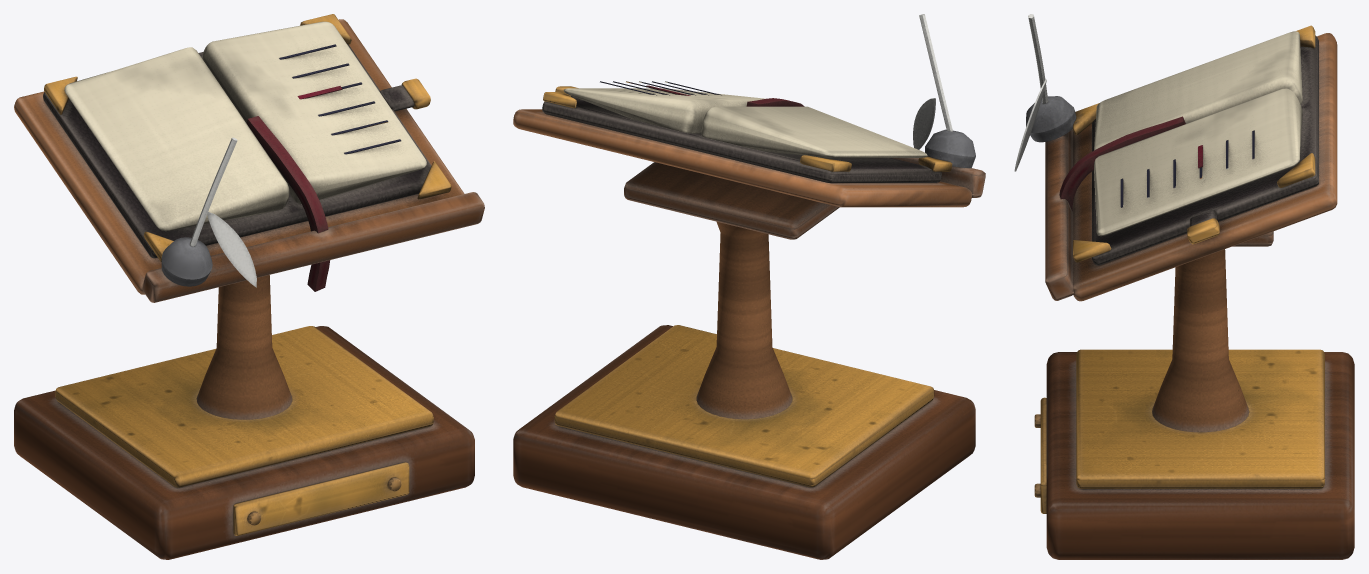
File: TheRegister.fbx
3 renders of one model, left to right at view 1: azimuth 30°, elevation 25°; view 2: azimuth 150°, elevation 25°; view 3: azimuth 270°, elevation 25°, orthographic.
Parts seen in each view (by area): view 1: TheRegister; view 2: TheRegister; view 3: TheRegister.
Part boxes in pixels (left/top/right/bottom): TheRegister: left=14, top=14, right=484, bottom=559; TheRegister: left=513, top=14, right=985, bottom=559; TheRegister: left=1014, top=14, right=1354, bottom=559.
Size of the model in its own units: 100 by 115 by 83.97.
